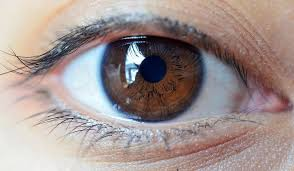pupil: (102, 35, 202, 120)
